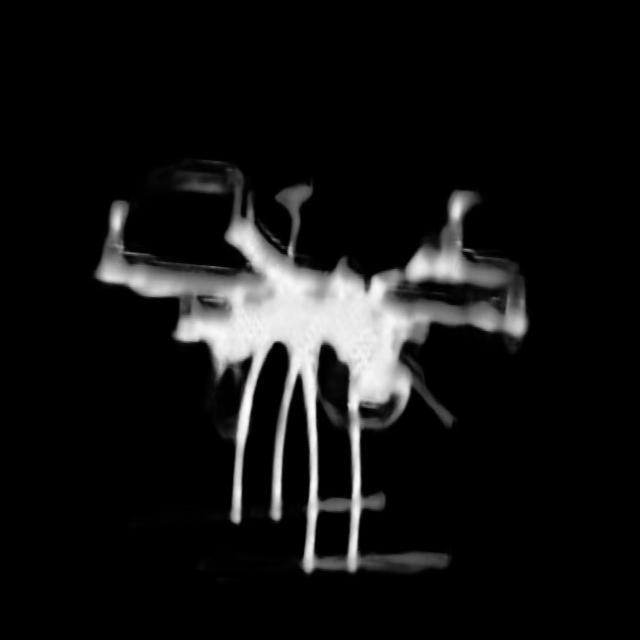drone: (77, 137, 534, 578)
